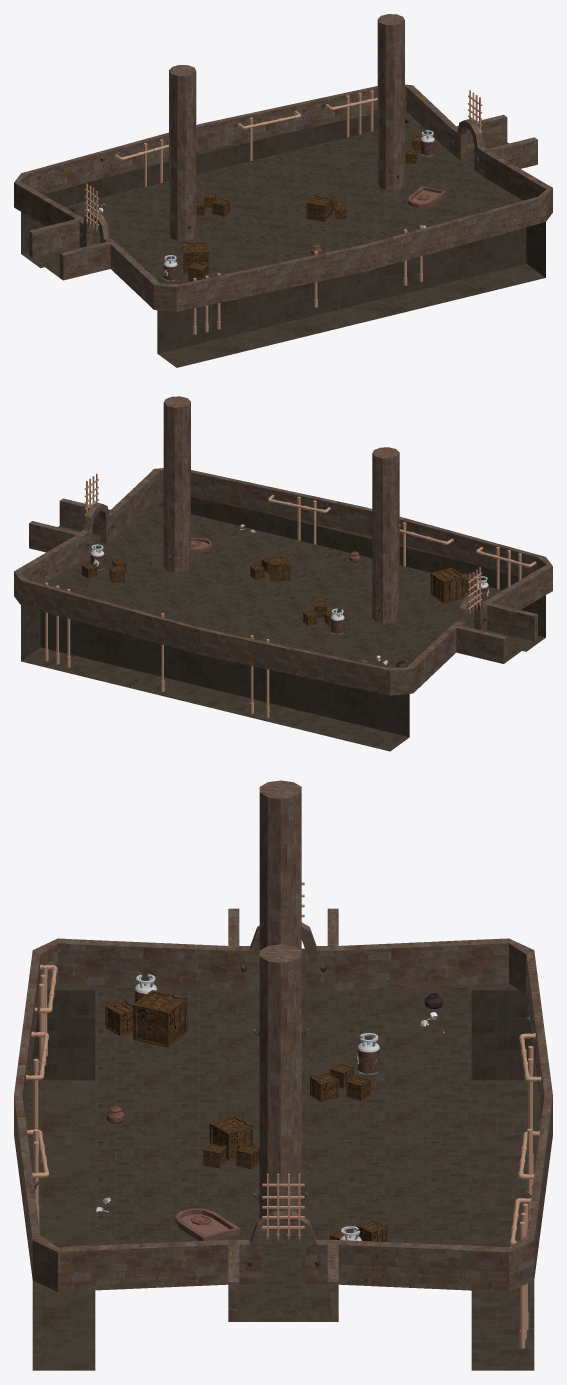
Rendered from room_base_I_pipes_40x40.glb.
3 renders of one model, top to bottom at view 1: azimuth 30°, elevation 25°; view 2: azimuth 150°, elevation 25°; view 3: azimuth 270°, elevation 25°, orthographic. The views are drawn at different scales.
Visible parts, largest first — view 1: wall, floor, Plane.001, Cylinder.042, Cylinder.043, gate.001; view 2: wall, floor, Plane.001, Cylinder.042, Cylinder.043, Cube.016_cell.003, gate.001; view 3: floor, wall, Plane.001, Cylinder.042, Cylinder.043, gate.003, Cube.016_cell.002, Cube.016_cell.001.
Part boxes in pixels (<box>): wall: <box>14,84,552,311</box>; floor: <box>33,111,522,283</box>; Plane.001: <box>21,113,545,367</box>; Cylinder.042: <box>377,14,404,190</box>; Cylinder.043: <box>169,65,196,240</box>; gate.001: <box>84,183,98,231</box>; wall: <box>14,468,552,695</box>; floor: <box>43,495,534,667</box>; Plane.001: <box>21,497,545,751</box>; Cylinder.042: <box>163,396,190,572</box>; Cylinder.043: <box>372,447,399,623</box>; Cube.016_cell.003: <box>437,574,460,601</box>; gate.001: <box>468,567,482,615</box>; floor: <box>25,948,541,1321</box>; wall: <box>14,908,552,1321</box>; Plane.001: <box>32,990,534,1370</box>; Cylinder.042: <box>259,944,301,1225</box>; Cylinder.043: <box>259,780,301,950</box>; gate.003: <box>262,1173,304,1240</box>; Cube.016_cell.002: <box>133,1017,187,1047</box>; Cube.016_cell.001: <box>133,1008,176,1030</box>.
Bounding box in the file's own units: 40 × 17.77 × 24.4.
Materials: 12 (12 with a texture image).
